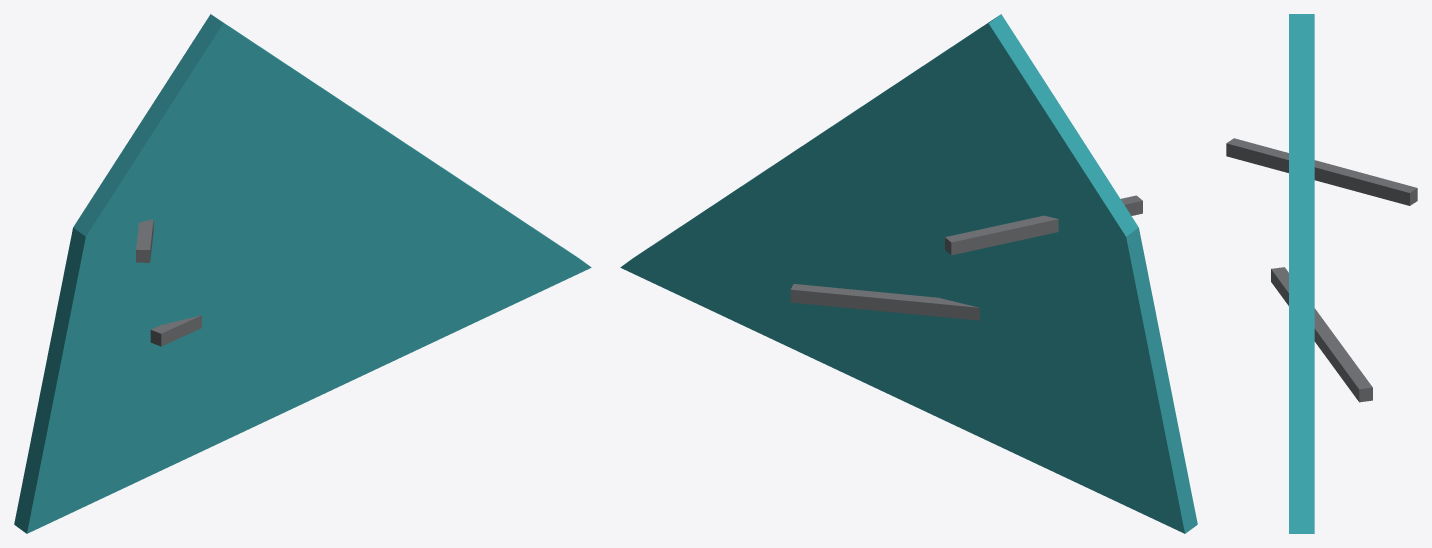
Rendered from Debris_PanelShard_B.fbx.
3 views of the same model, side by side, from view 1: azimuth 30°, elevation 25°; view 2: azimuth 150°, elevation 25°; view 3: azimuth 270°, elevation 25° (orthographic).
Visible parts, largest first — view 1: triangular_panel, panel_rib_0, panel_rib_1; view 2: triangular_panel, panel_rib_0, panel_rib_1; view 3: triangular_panel, panel_rib_1, panel_rib_0.
Part boxes in pixels (bbox=[...]): triangular_panel: bbox=[14, 14, 591, 533]; panel_rib_0: bbox=[150, 315, 201, 346]; panel_rib_1: bbox=[136, 219, 153, 262]; triangular_panel: bbox=[620, 14, 1197, 533]; panel_rib_0: bbox=[790, 284, 979, 320]; panel_rib_1: bbox=[945, 195, 1142, 255]; triangular_panel: bbox=[1289, 14, 1314, 533]; panel_rib_1: bbox=[1226, 138, 1417, 205]; panel_rib_0: bbox=[1271, 267, 1372, 402].
Bounding box in the file's own units: 115 × 90 × 33.33.
